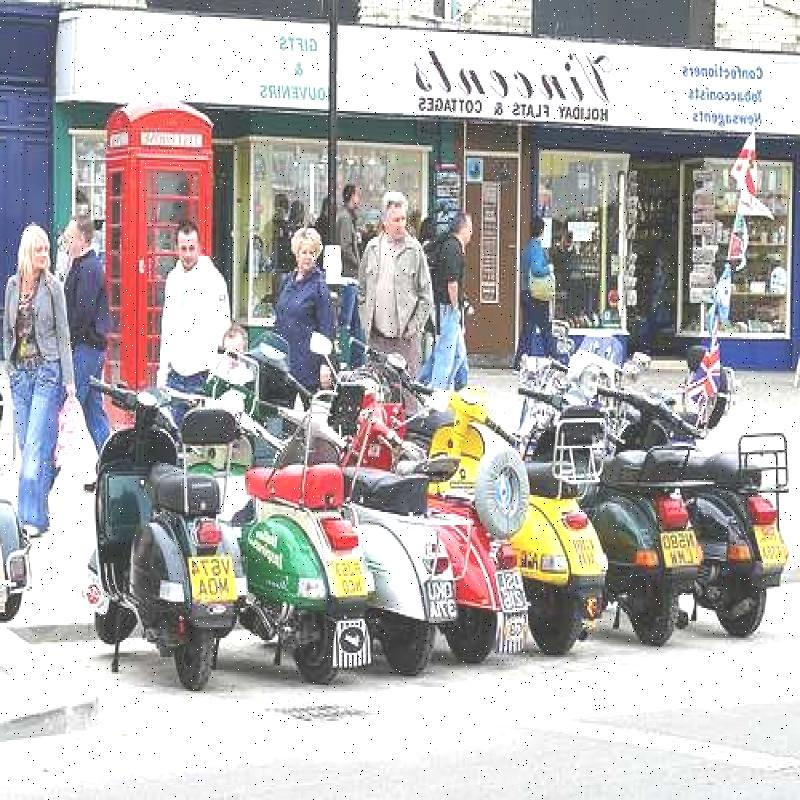bike: (185, 414, 349, 660), (519, 399, 684, 616), (91, 370, 209, 645), (430, 374, 553, 635), (680, 386, 775, 650), (329, 461, 434, 648), (432, 464, 500, 655)
